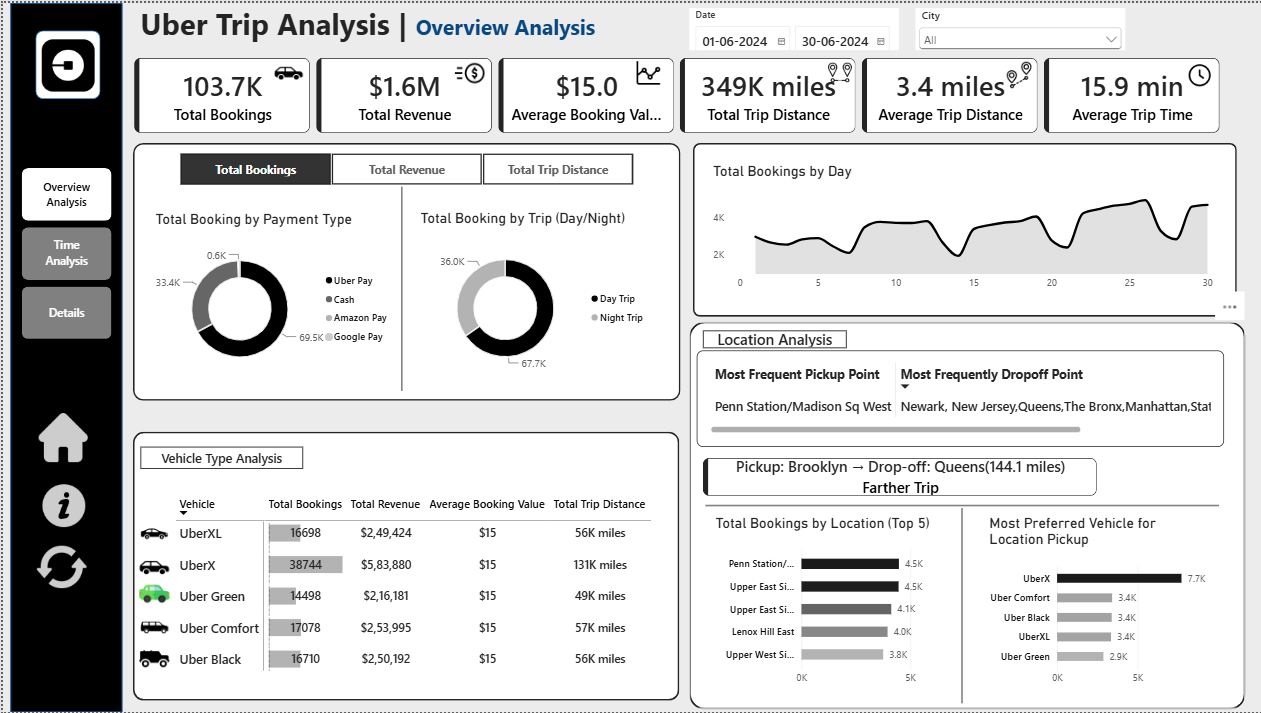

Layout of this report page (visuals, bound fields, positions):
{"tool":"powerbi","page":{"name":"Overview Analysis","canvas":[1600,900],"ordinal":0},"visuals":[{"type":"shape","box":[10.3,0,142,900.5],"z":0},{"type":"textbox","box":[173.9,0,626.3,59.6],"z":1000},{"type":"cardVisual","fields":{"Data":["Trip Details.Total Bookings","Trip Details.Total Booking Value","Trip Details.Avg Booking Value","Trip Details.Total Trip Distance","Trip Details.Average Trip Distance","Trip Details.Average Trip Time"]},"box":[165.9,69.1,1380,95.4],"z":2000},{"type":"image","box":[571.3,70.1,42.3,38],"z":3000},{"type":"image","box":[1047.3,69.1,30,37],"z":4000},{"type":"image","box":[1275.3,73.1,33.8,36.9],"z":5000},{"type":"image","box":[1502.9,78.3,32,28],"z":6000},{"type":"image","box":[802.3,72.1,36,34],"z":7000},{"type":"image","box":[344.3,70.1,37,38.6],"z":8000},{"type":"shape","box":[164.8,177.2,695.2,327.3],"z":9000},{"type":"slicer","fields":{"Values":["Dynamic Measure.Dynamic Measure"]},"box":[205.6,188.2,613.8,43.8],"z":10000},{"type":"donutChart","title":"Total Booking by Payment Type","fields":{"Y":["Trip Details.Total Bookings"],"Category":["Trip Details.Payment_type"]},"box":[177.4,249.3,335.1,242.7],"z":11000},{"type":"donutChart","title":"Total Booking by Trip (Day/Night)","fields":{"Y":["Trip Details.Total Bookings"],"Category":["Trip Details.Trip Type(Day/Night)"]},"box":[514,247.7,324.1,244.3],"z":12000},{"type":"shape","box":[165.6,545.2,693.9,341.3],"z":13000},{"type":"pivotTable","fields":{"Values":["Trip Details.Total Bookings","Trip Details.Total Revenue","Trip Details.Average Booking Value","Trip Details.Total Trip Distance"],"Rows":["Trip Details.Vehicle"]},"box":[202.8,607.2,640.6,264.1],"z":14000},{"type":"image","box":[173.6,809.8,38,46],"z":15000},{"type":"image","box":[173.6,727.6,38,46],"z":16000},{"type":"image","box":[173.6,770.5,38,46],"z":17000},{"type":"image","box":[173,693.4,38,46],"z":18000},{"type":"image","box":[173.6,650.5,38,46],"z":19000},{"type":"cardVisual","fields":{"Data":["Trip Details.Title for Grid"]},"box":[175.2,562.9,206.1,29],"z":20000},{"type":"shape","box":[876.4,177.1,690.7,220.6],"z":21000},{"type":"lineChart","fields":{"Category":["Calendar Table.Date.Variation.Date Hierarchy.Day"],"Y":["Trip Details.Total Bookings"]},"box":[886,188.4,669.8,194.8],"z":22000},{"type":"shape","box":[872.1,404.5,706.2,492.3],"z":23000},{"type":"tableEx","fields":{"Values":["Trip Details.Most Frequent Pickup Point","Trip Details.Most Frequently Dropoff Point"]},"box":[881.3,441.4,669.8,122.4],"z":24000},{"type":"cardVisual","fields":{"Data":["Trip Details.Farther Trip"]},"box":[888.4,577.4,500.7,48.3],"z":25000},{"type":"barChart","title":"Total Bookings by Location (Top 5)","fields":{"Category":["Location Table.Location"],"Y":["Trip Details.Total Bookings"]},"box":[888.4,635.4,313.9,251.2],"z":26000},{"type":"barChart","title":"Most Preferred Vehicle for Location Pickup","fields":{"Category":["Trip Details.Vehicle"],"Y":["CountNonNull(Trip Details.PULocationID)"]},"box":[1236.2,635.4,313.9,251.2],"z":27000},{"type":"shape","box":[500.4,233.2,12.9,259.2],"z":28000},{"type":"shape","box":[1211.7,641.7,13.3,248.3],"z":29000},{"type":"shape","box":[891.7,635,652,6.4],"z":30000},{"type":"cardVisual","fields":{"Data":["Trip Details.Title for Location"]},"box":[889,415.2,182,22],"z":31000},{"type":"slicer","fields":{"Values":["Calendar Table.Date"]},"box":[871.7,6.7,266.7,53.3],"z":32000},{"type":"slicer","fields":{"Values":["Location Table.City"]},"box":[1158.3,6.7,266.7,53.3],"z":33000},{"type":"pageNavigator","box":[23.4,209.4,114.1,217.2],"z":34000},{"type":"shape","box":[41.1,34.2,82.4,87.1],"z":35000},{"type":"image","box":[48.8,34.2,66.9,88.6],"z":36000},{"type":"image","box":[43.5,520.9,66.9,62.2],"z":37000},{"type":"image","box":[33.3,684.1,82.4,63.8],"z":38000},{"type":"image","box":[38.1,611.1,77.7,54.4],"z":39000}]}

Visuals, with their boxes on the page's 1600x900 design canvas (x1, y1, x2, y2). These are canvas units, not pixel positions in the 1261x713 screenshot, which may show the page scaled, cropped or inside an application window:
shape: locate(10, 0, 152, 900)
textbox: locate(174, 0, 800, 60)
cardVisual - Trip Details.Total Bookings x Trip Details.Total Booking Value: locate(166, 69, 1546, 164)
image: locate(571, 70, 614, 108)
image: locate(1047, 69, 1077, 106)
image: locate(1275, 73, 1309, 110)
image: locate(1503, 78, 1535, 106)
image: locate(802, 72, 838, 106)
image: locate(344, 70, 381, 109)
shape: locate(165, 177, 860, 504)
slicer - Dynamic Measure.Dynamic Measure: locate(206, 188, 819, 232)
"Total Booking by Payment Type" donutChart: locate(177, 249, 512, 492)
"Total Booking by Trip (Day/Night)" donutChart: locate(514, 248, 838, 492)
shape: locate(166, 545, 860, 886)
pivotTable - Trip Details.Total Bookings x Trip Details.Total Revenue: locate(203, 607, 843, 871)
image: locate(174, 810, 212, 856)
image: locate(174, 728, 212, 774)
image: locate(174, 770, 212, 816)
image: locate(173, 693, 211, 739)
image: locate(174, 650, 212, 696)
cardVisual - Trip Details.Title for Grid: locate(175, 563, 381, 592)
shape: locate(876, 177, 1567, 398)
lineChart - Calendar Table.Date.Variation.Date Hierarchy.Day x Trip Details.Total Bookings: locate(886, 188, 1556, 383)
shape: locate(872, 404, 1578, 897)
tableEx - Trip Details.Most Frequent Pickup Point x Trip Details.Most Frequently Dropoff Point: locate(881, 441, 1551, 564)
cardVisual - Trip Details.Farther Trip: locate(888, 577, 1389, 626)
"Total Bookings by Location (Top 5)" barChart: locate(888, 635, 1202, 887)
"Most Preferred Vehicle for Location Pickup" barChart: locate(1236, 635, 1550, 887)
shape: locate(500, 233, 513, 492)
shape: locate(1212, 642, 1225, 890)
shape: locate(892, 635, 1544, 641)
cardVisual - Trip Details.Title for Location: locate(889, 415, 1071, 437)
slicer - Calendar Table.Date: locate(872, 7, 1138, 60)
slicer - Location Table.City: locate(1158, 7, 1425, 60)
pageNavigator: locate(23, 209, 138, 427)
shape: locate(41, 34, 124, 121)
image: locate(49, 34, 116, 123)
image: locate(44, 521, 110, 583)
image: locate(33, 684, 116, 748)
image: locate(38, 611, 116, 666)
